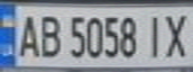0: (84, 12, 106, 59)
5: (63, 11, 87, 60), (103, 12, 124, 60)
8: (118, 12, 142, 60)
A: (12, 10, 42, 58)
B: (36, 11, 63, 58)
I: (139, 11, 169, 60)
X: (160, 10, 193, 60)
